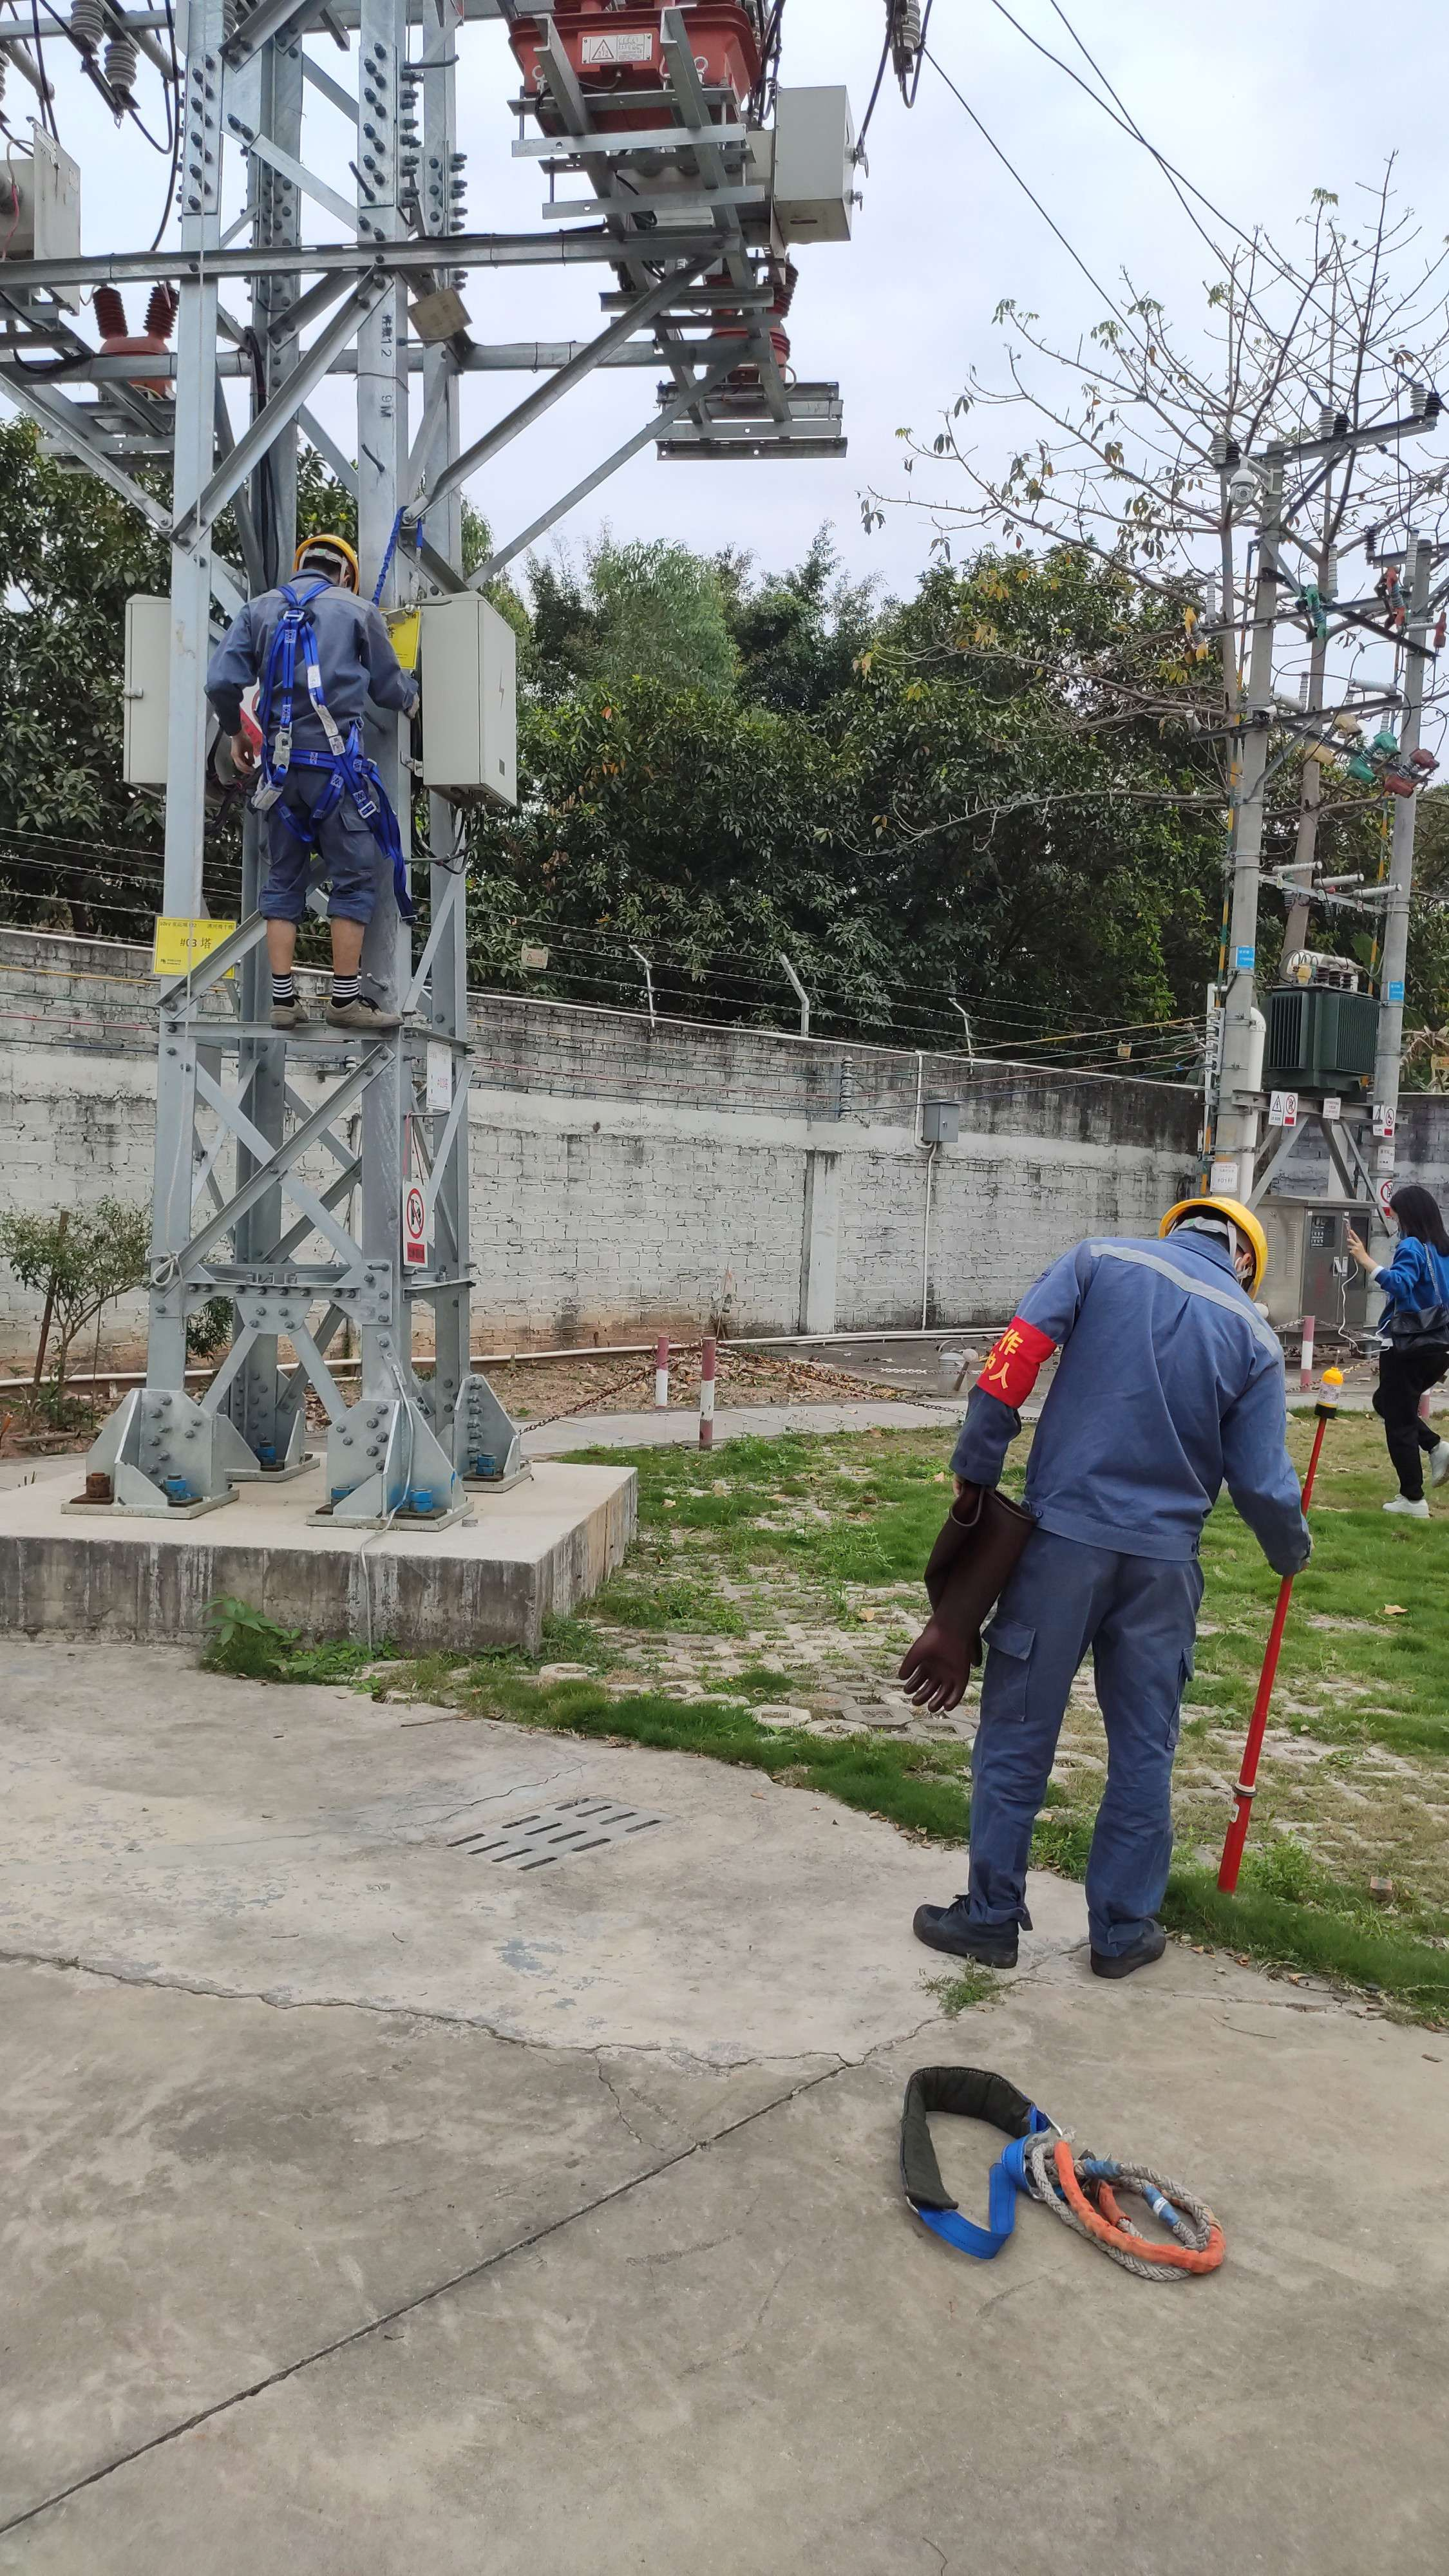downcloth: (1373, 1341, 1449, 1499)
downsuit: (950, 1566, 1217, 1939), (264, 734, 402, 941)
upcloth: (1376, 1237, 1449, 1350)
upsuit: (971, 1223, 1307, 1541), (195, 568, 398, 694)
wrongbottom: (320, 897, 384, 993), (253, 895, 310, 993)
